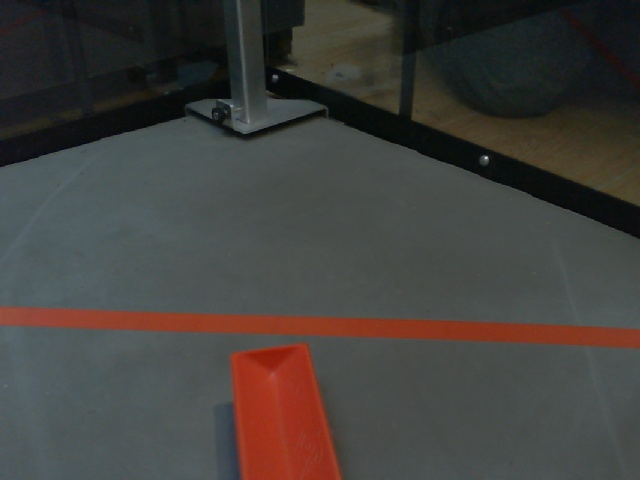RedSample: (228, 340, 342, 480)
